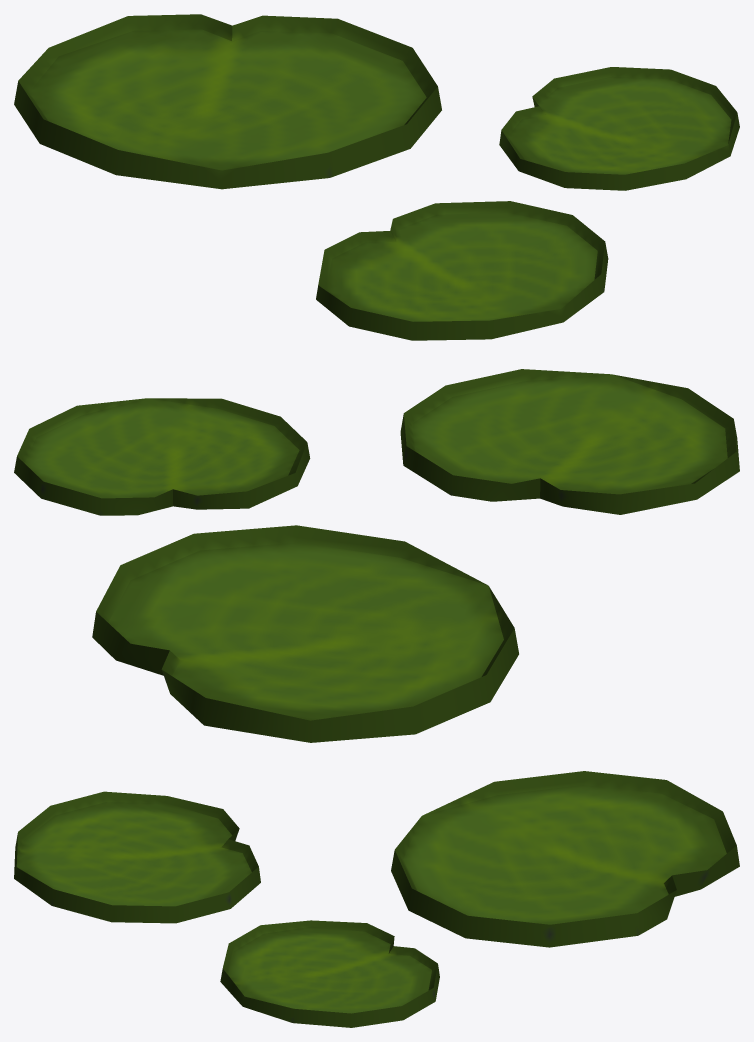
File: Tria_Nature_WaterPlant.fbx
The picture shows the model from 3 angles, top to bottom: view 1: azimuth 30°, elevation 25°; view 2: azimuth 150°, elevation 25°; view 3: azimuth 270°, elevation 25°; orthographic projection. The views are drawn at different scales.
Parts seen in each view (by area): view 1: Tria_Nature_WaterPlant; view 2: Tria_Nature_WaterPlant; view 3: Tria_Nature_WaterPlant.
Boxes of the visible parts, bbox=[...] form: Tria_Nature_WaterPlant: bbox=[14, 14, 739, 340]; Tria_Nature_WaterPlant: bbox=[14, 369, 739, 742]; Tria_Nature_WaterPlant: bbox=[14, 771, 739, 1027].
Bounding box in the file's own units: 308 × 12.7 × 392.
